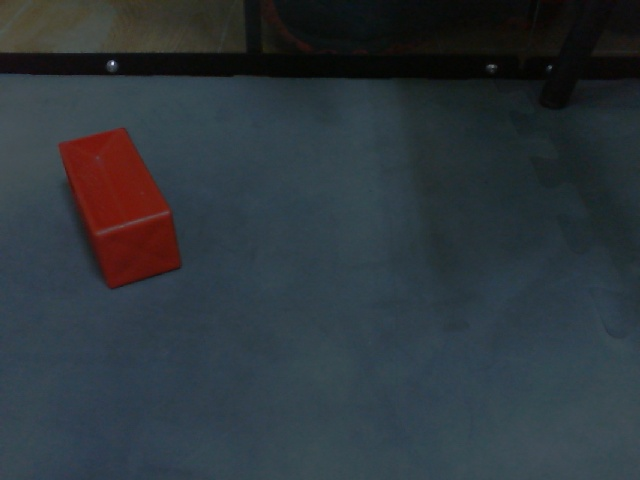RedSample: (56, 125, 185, 292)
